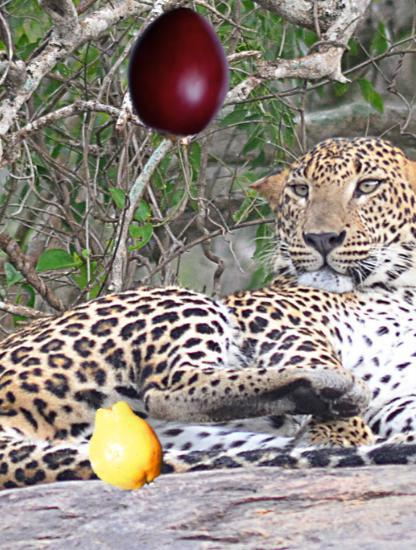Quince: (77, 402, 170, 495)
Tamarillo: (108, 7, 248, 147)
